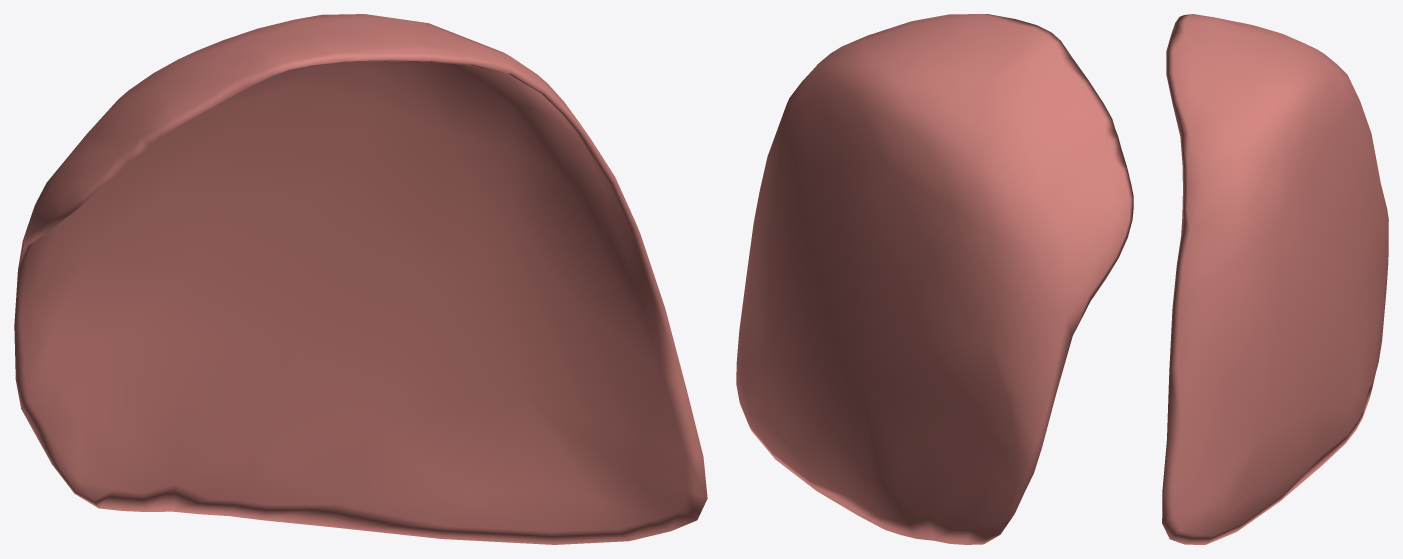
3 renders of one model, left to right at view 1: azimuth 30°, elevation 25°; view 2: azimuth 150°, elevation 25°; view 3: azimuth 270°, elevation 25°, orthographic. The views are drawn at different scales.
Parts seen in each view (by area): view 1: ZA_fdd096393ef1c64b; view 2: ZA_fdd096393ef1c64b; view 3: ZA_fdd096393ef1c64b.
Part boxes in pixels (x1,y1,x2,y2): ZA_fdd096393ef1c64b: (14, 14, 707, 544); ZA_fdd096393ef1c64b: (736, 14, 1133, 544); ZA_fdd096393ef1c64b: (1162, 14, 1388, 544).
Size of the model in its own units: 0.0255 by 0.0249 by 0.0124.
